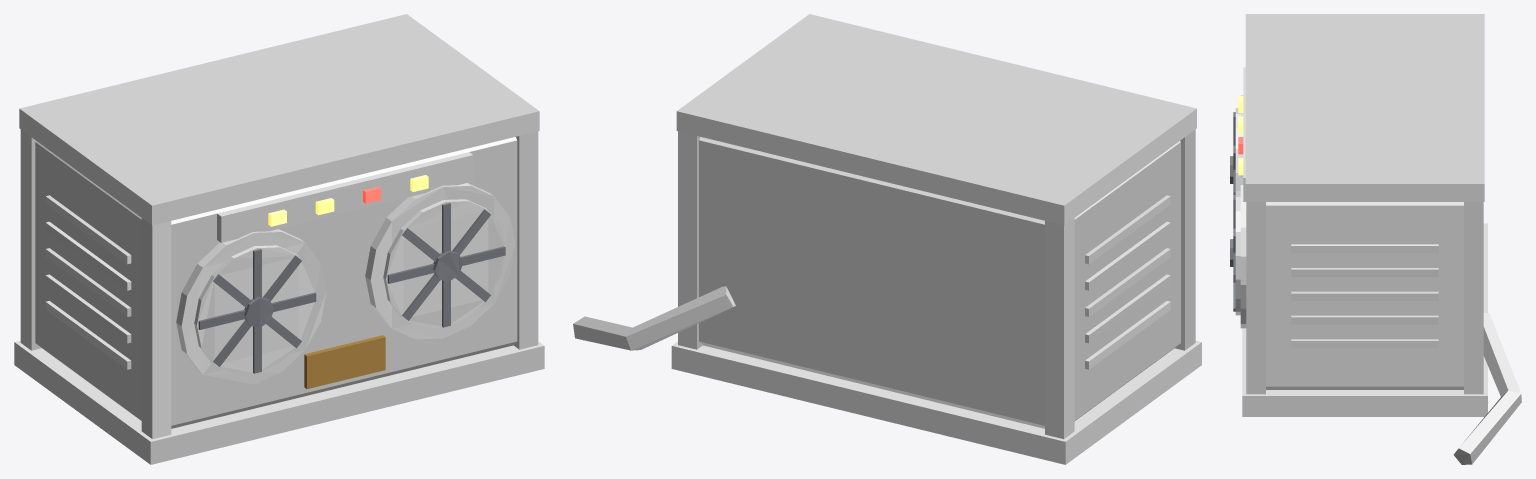
File: Generator_Unit.fbx
3 views of the same model, side by side, from view 1: azimuth 30°, elevation 25°; view 2: azimuth 150°, elevation 25°; view 3: azimuth 270°, elevation 25° (orthographic). The views are drawn at different scales.
Parts seen in each view (by area): view 1: Generator_Unit; view 2: Generator_Unit; view 3: Generator_Unit.
Part boxes in pixels (x1,y1,x2,y2): Generator_Unit: (14,14,544,464); Generator_Unit: (573,14,1201,464); Generator_Unit: (1230,14,1521,464).
Size of the model in its own units: 3.19 by 1.59 by 1.78.
